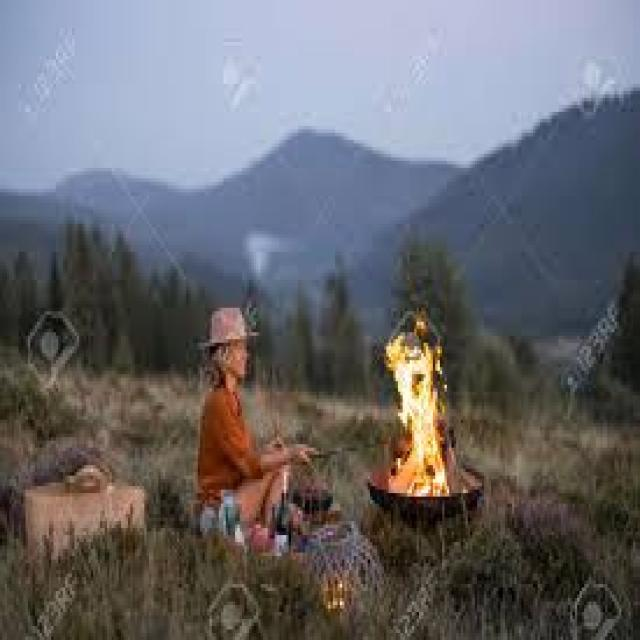fire: (383, 308, 463, 497)
